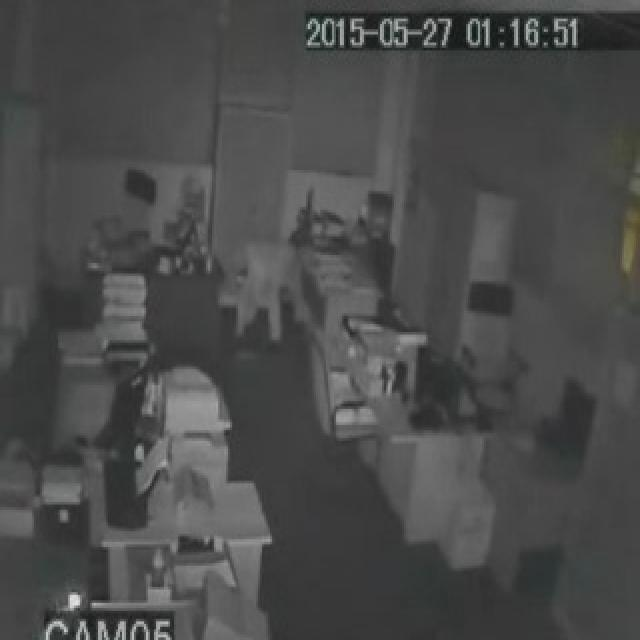thief: (234, 232, 298, 340)
